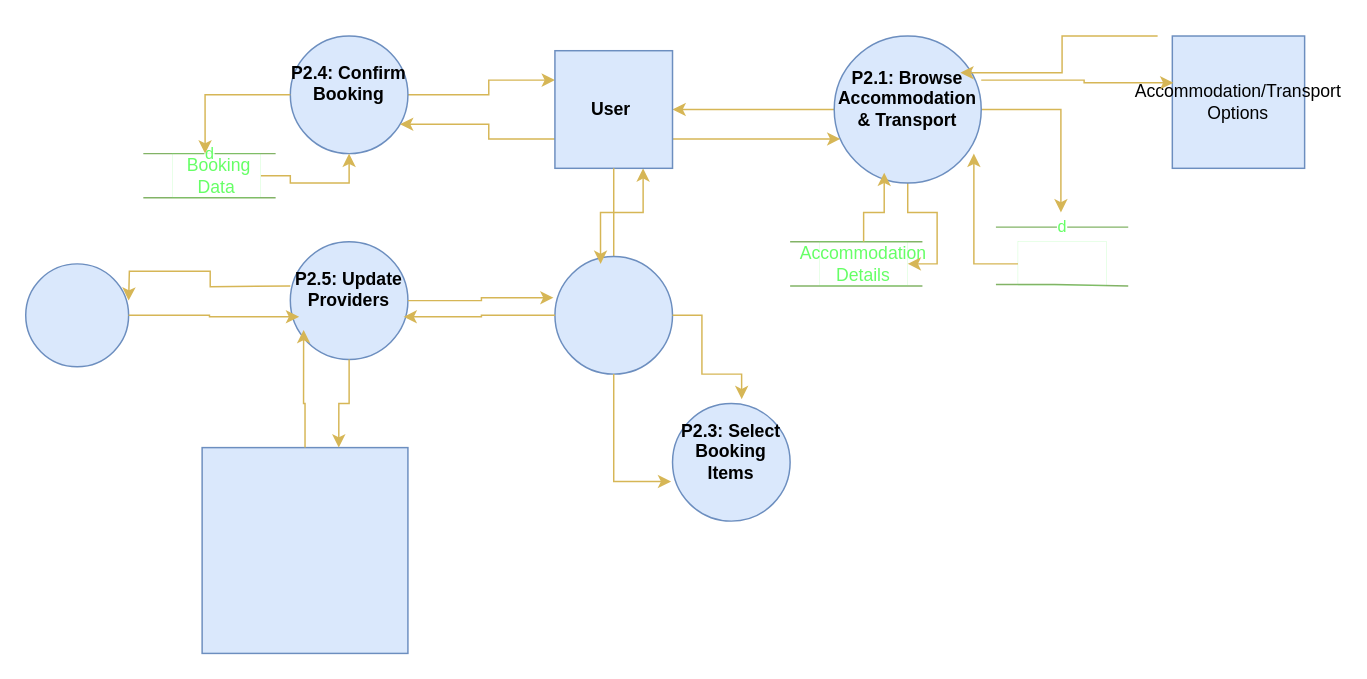
Image size: 1367x679. Some labels were removed from this diagram. The shapes that lost their labels are listed below. From the top down, each one's box as (x1, y1, x2, y2) in pixels, then its label:
(1017, 241, 1105, 285): Transport Details
(24, 262, 129, 367): P1.6: External Service Integration
(553, 255, 673, 374): P2.2: Check Availability
(201, 446, 408, 653): Contact Accommodation/Transport Provider for confirmation
